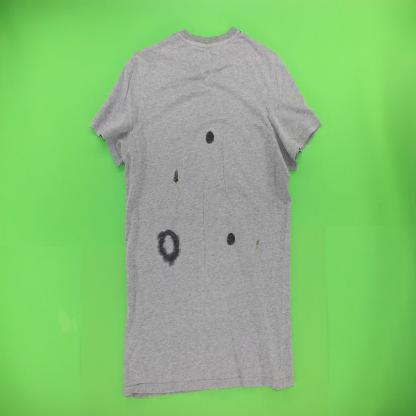stain: (156, 228, 183, 269), (204, 129, 216, 146), (226, 232, 236, 247), (172, 168, 180, 185), (256, 238, 260, 250)
